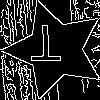T: (30, 25, 62, 71)
